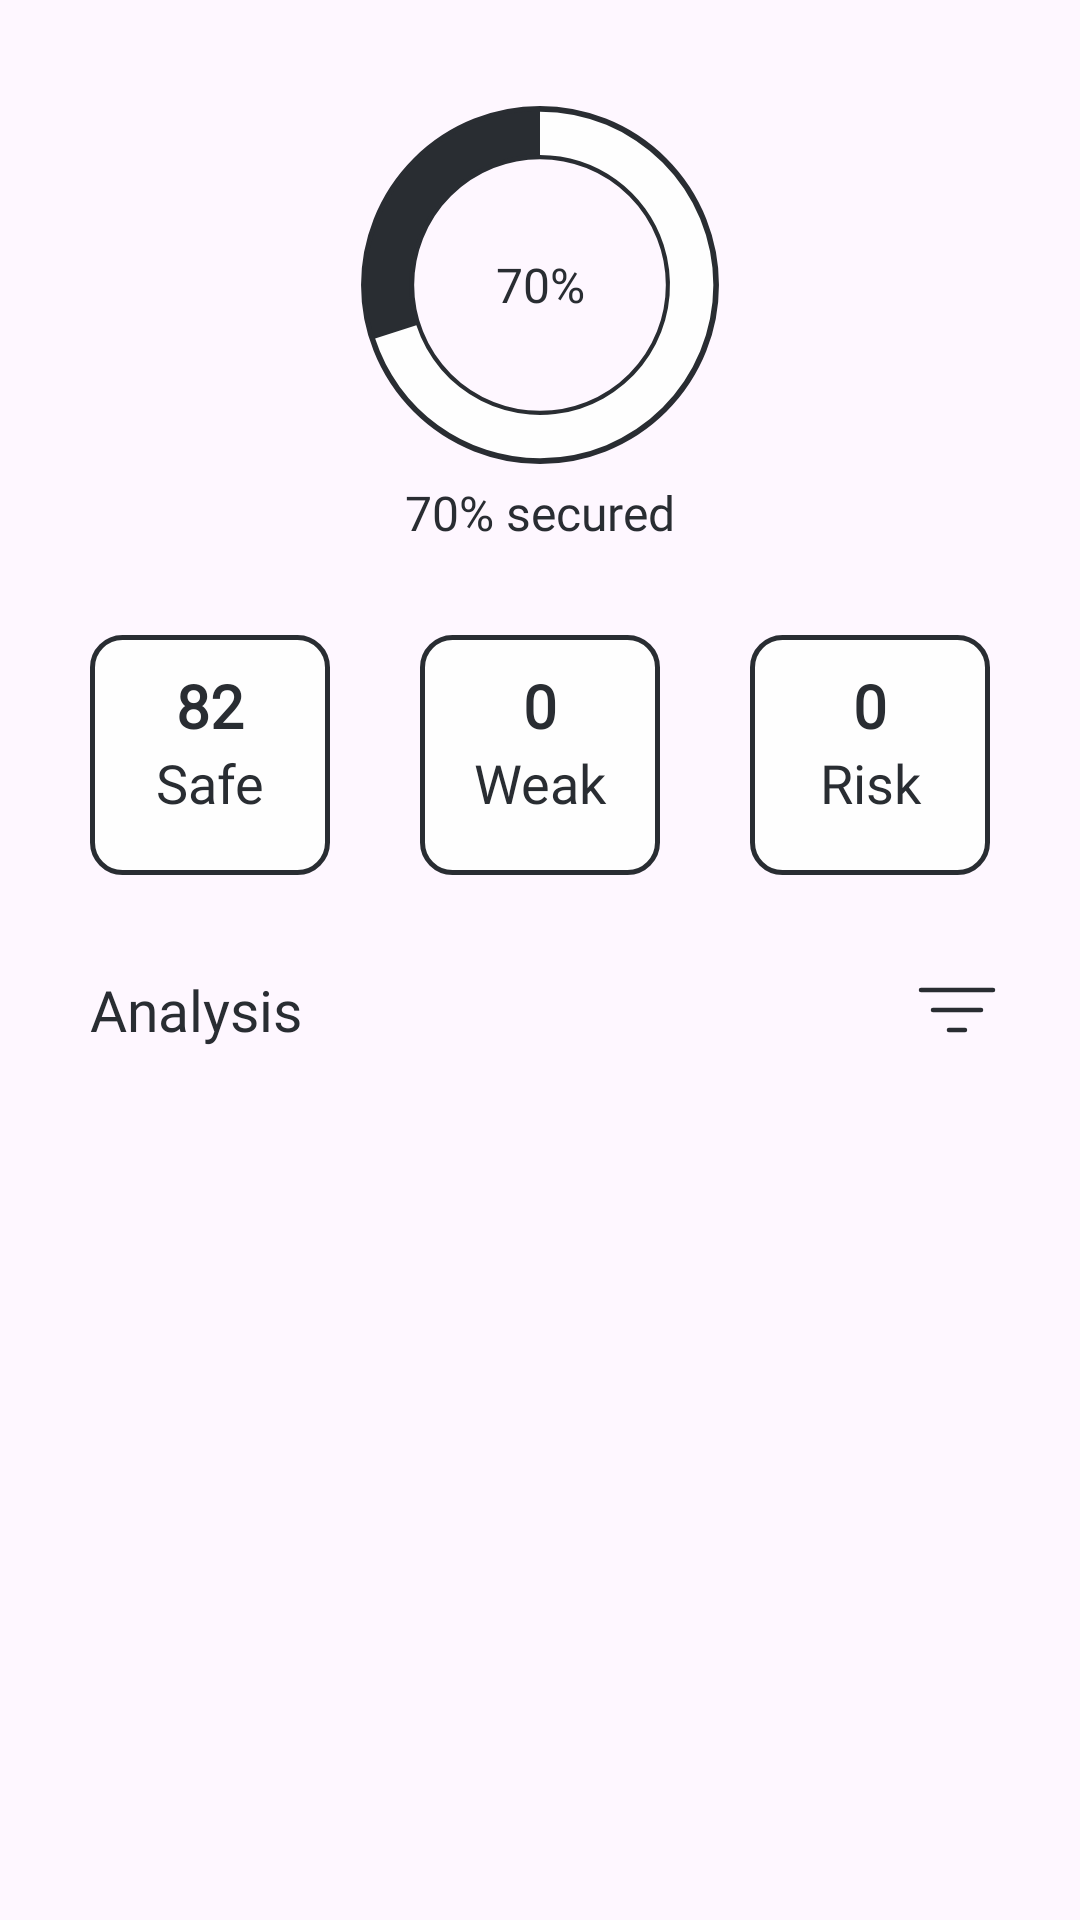

Icon click points for this 1080*1920 phone screenshot, format [x,y]:
sort: [957,1010]
